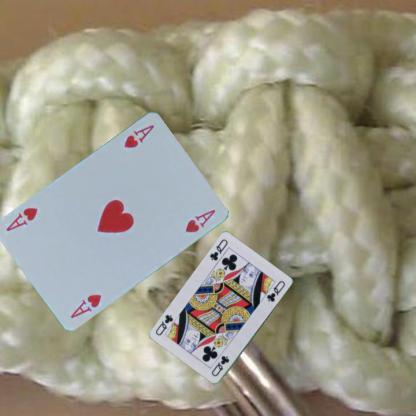Ah: (67, 290, 104, 320), (121, 122, 156, 150)
Qc: (209, 353, 231, 378), (207, 237, 229, 262)
